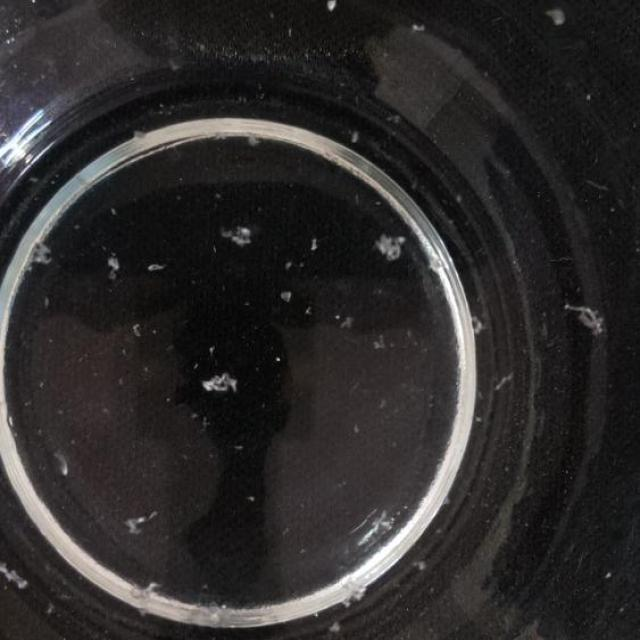fiber: (561, 298, 603, 339), (121, 509, 158, 538), (129, 582, 162, 614), (202, 372, 240, 399), (376, 230, 406, 264), (222, 223, 255, 247), (0, 564, 29, 589), (494, 367, 515, 393), (54, 449, 72, 479), (31, 245, 52, 270), (102, 253, 122, 279), (542, 10, 569, 27), (410, 555, 430, 577), (130, 127, 151, 146), (469, 316, 485, 338), (145, 260, 163, 278), (349, 127, 363, 146), (341, 312, 356, 329), (245, 134, 263, 147), (132, 320, 144, 338), (323, 0, 338, 14), (414, 20, 428, 35), (328, 622, 342, 636), (372, 336, 386, 350), (308, 234, 318, 250), (602, 566, 612, 582), (208, 343, 218, 357), (47, 600, 54, 620), (282, 286, 289, 305), (388, 112, 401, 122), (248, 491, 257, 504), (40, 297, 50, 308), (302, 304, 312, 314), (109, 204, 119, 214), (354, 425, 362, 435), (276, 354, 283, 365), (585, 94, 594, 102), (285, 260, 293, 268)
